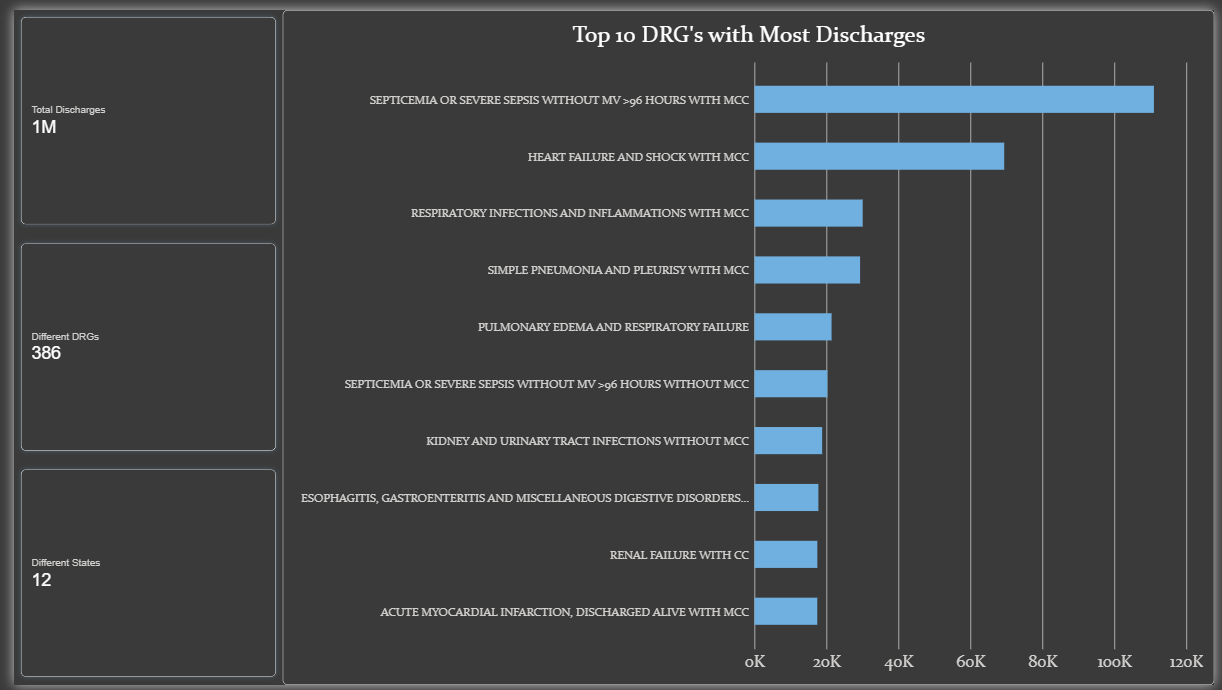

The dashboard page shown, as its layout file describes it:
{"tool":"powerbi","page":{"name":"DischargeRateperDRG","canvas":[1920,1080],"ordinal":0},"visuals":[{"type":"barChart","title":"Top 10 DRG''s with Most Discharges","fields":{"Category":["Question1_output.drg_desc"],"Y":["Sum(Question1_output.total_discharges)"]},"box":[430,0,1490,1080],"z":1000},{"type":"cardVisual","fields":{"Data":["Sum(Question1_output.total_discharges)","Count(Question1_output.drg_cd)","Count(Question1_output.state)"]},"box":[0,0,430,1080],"z":1001}]}

Visuals, with their boxes in screenshot pixels (x1, y1, x2, y2), scaled from the page's 1920x1080 canvas onto the 1222x690 screenshot:
"Top 10 DRG''s with Most Discharges" barChart: bbox=[274, 0, 1221, 689]
cardVisual - Sum(Question1_output.total_discharges) x Count(Question1_output.drg_cd): bbox=[0, 0, 274, 689]
